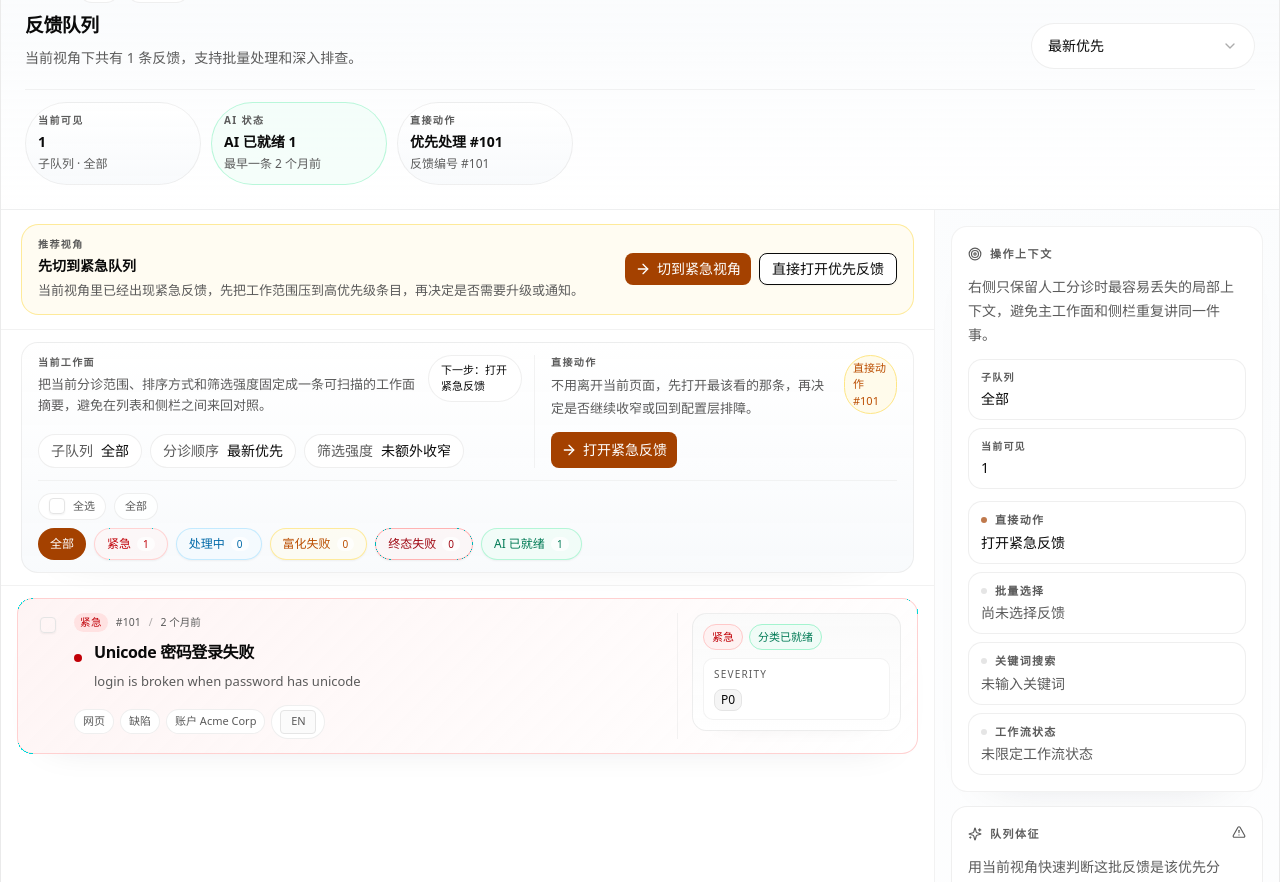
Test: _authed.feedback route — user flow smoke › queue rail primary action opens the current highest-priority feedback
(page scrolled)
Click the button "打开紧急反馈" at (614, 450), box [551,432,677,468]
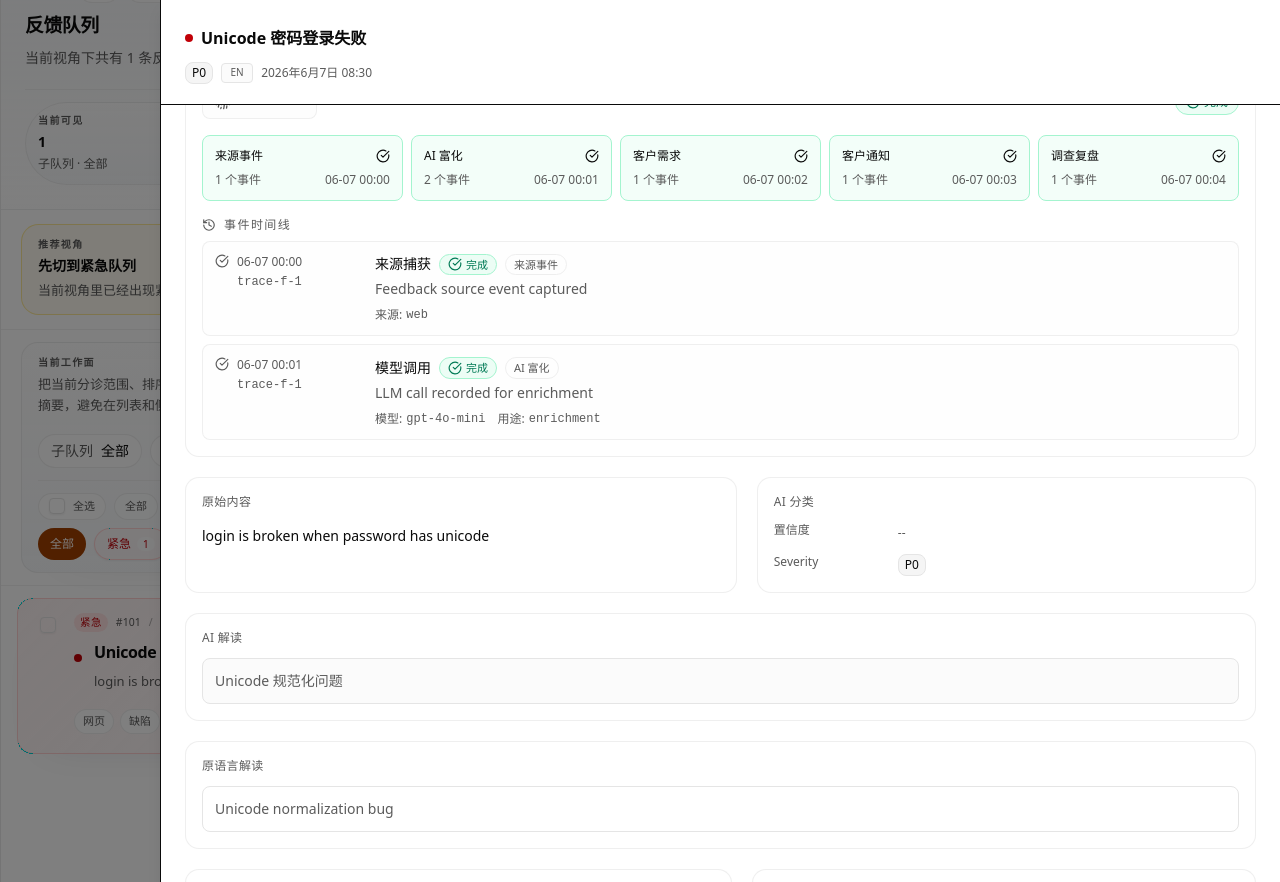
Expected: the text "Unicode 规范化问题" is shown, [202,658,1239,704]
